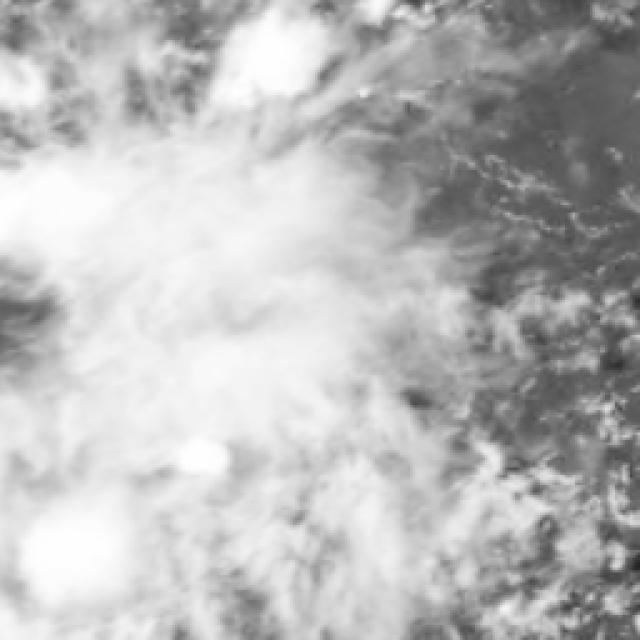CB: (91, 168, 329, 451)
